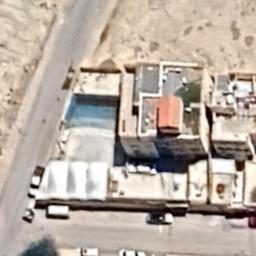sedan: (144, 212, 174, 225), (118, 248, 146, 256)
truck: (26, 166, 46, 198), (55, 247, 100, 256)
van: (45, 204, 70, 219)
